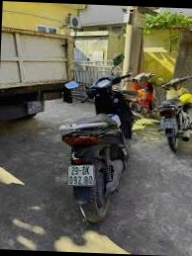Bien-so: (67, 165, 96, 186), (161, 117, 177, 130)
